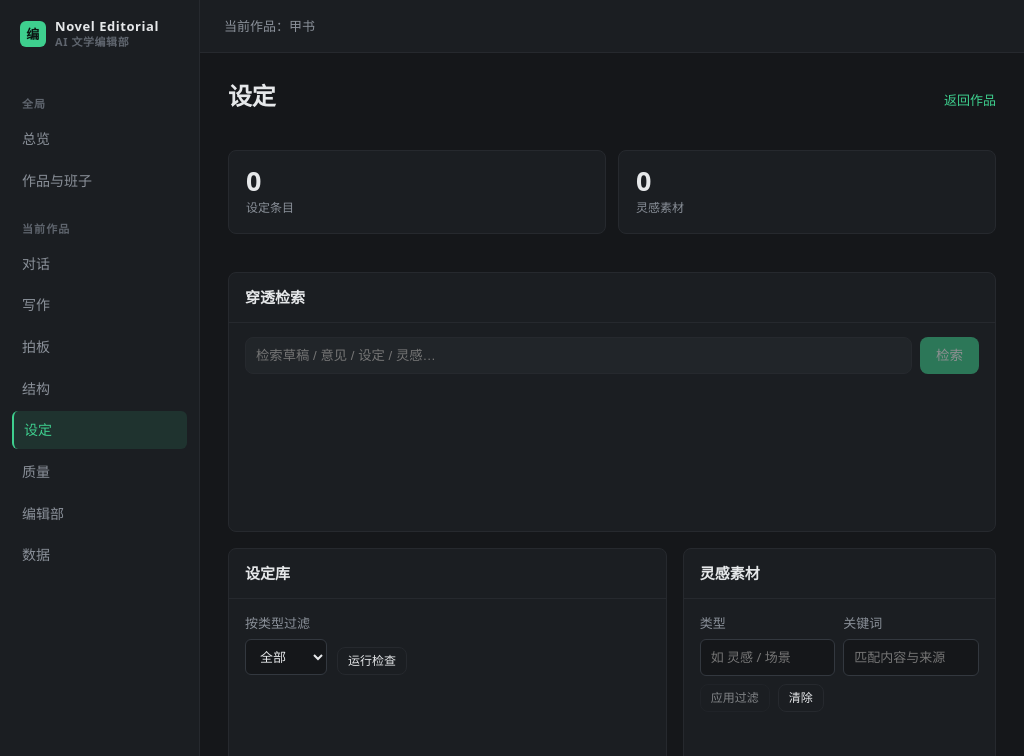
Test: settings page › runs the inspect search and shows plain text
This screenshot has width=1024, height=756.
Type "怕黑" into the field named "检索关键词".
click(578, 356); type("怕黑")  # box left=245, top=337, right=912, bottom=374
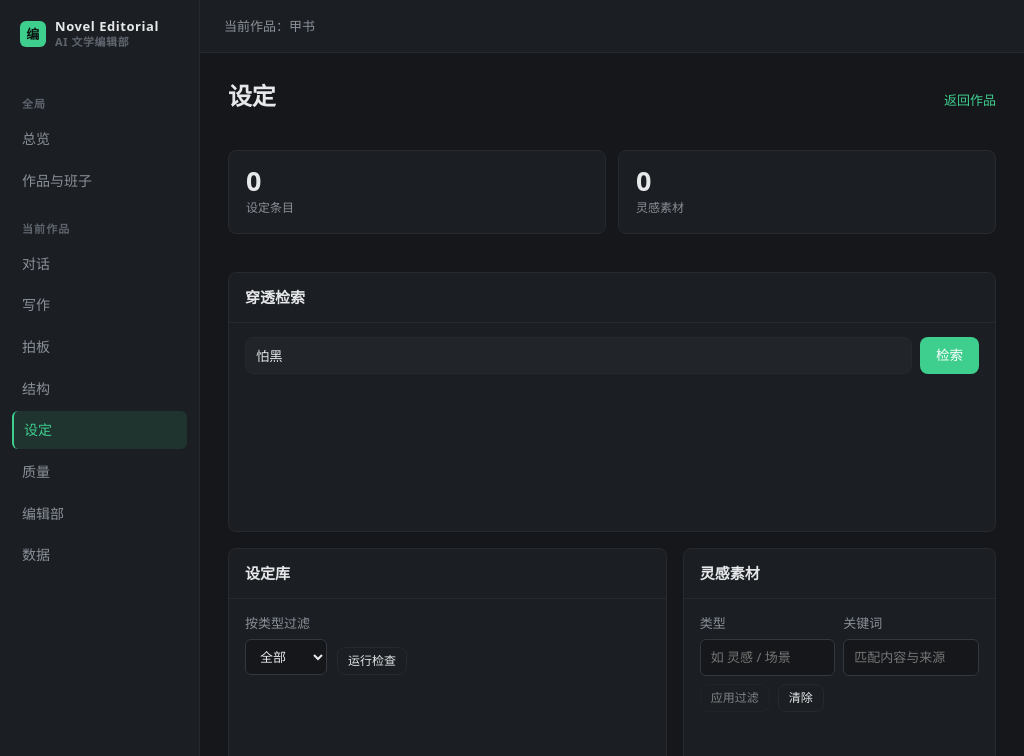
Click the button "检索".
click(950, 356)  # box left=920, top=337, right=979, bottom=374
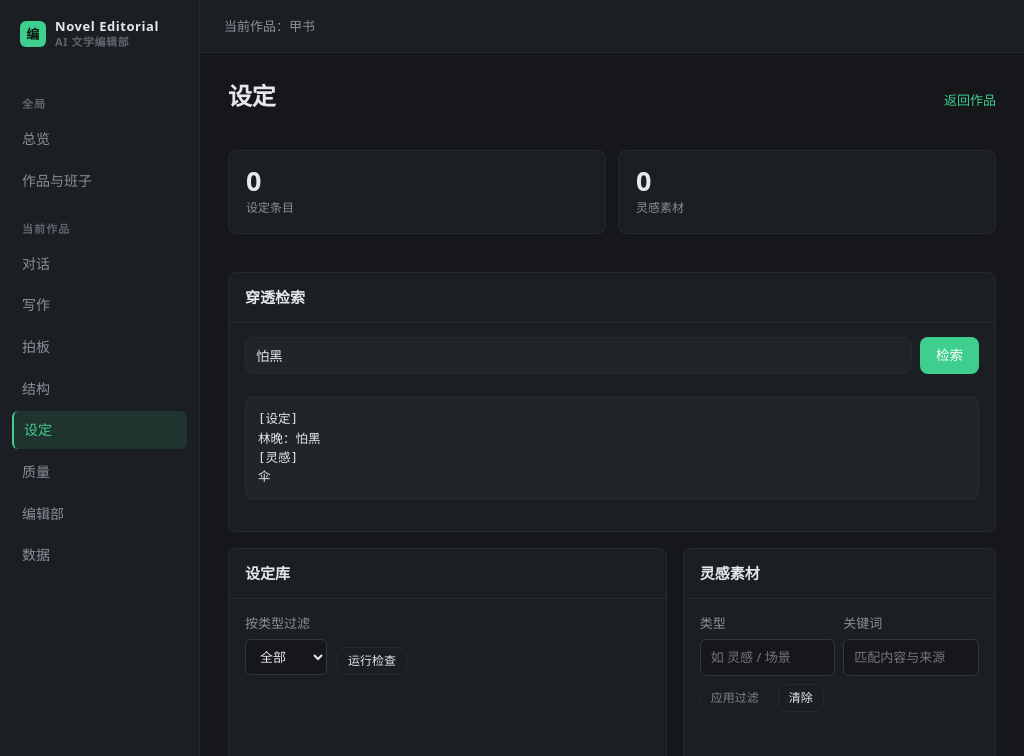
Expected: the text with test id "inspect-result" shows "林晚：怕黑", left=258, top=411, right=320, bottom=484
